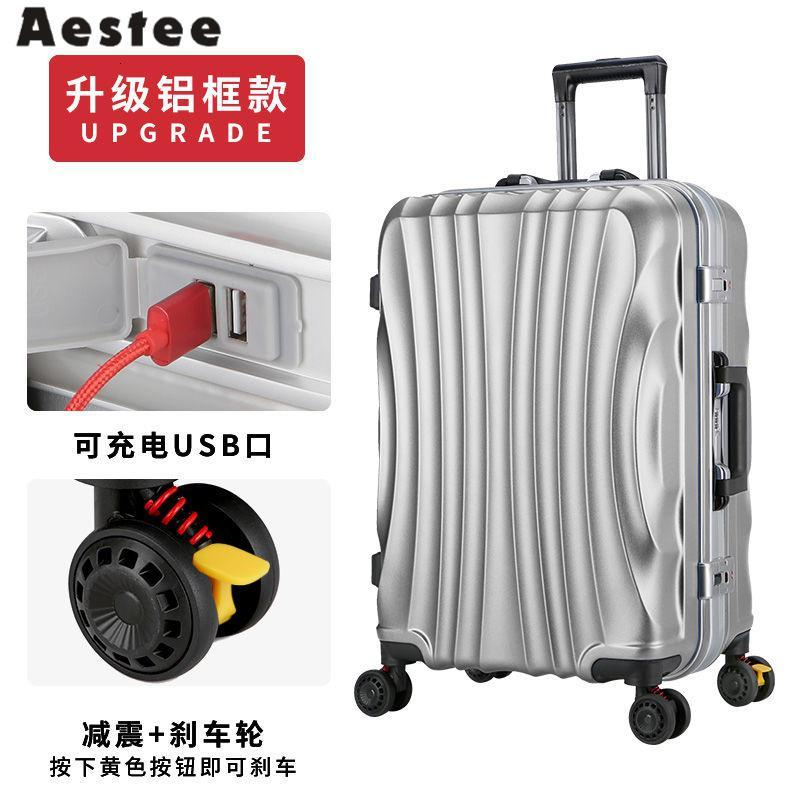box: (377, 180, 751, 682)
handle: (712, 351, 747, 512), (495, 169, 641, 185)
lock: (698, 555, 735, 600), (697, 265, 735, 304), (713, 405, 722, 437)
wheel: (67, 484, 280, 683), (628, 688, 691, 746), (717, 655, 775, 707), (353, 668, 413, 718)
